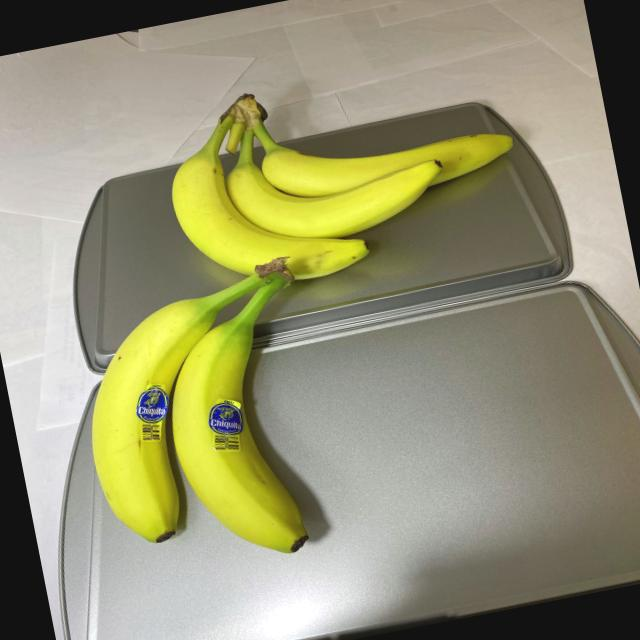banana: (152, 44, 538, 310), (58, 254, 350, 595)
